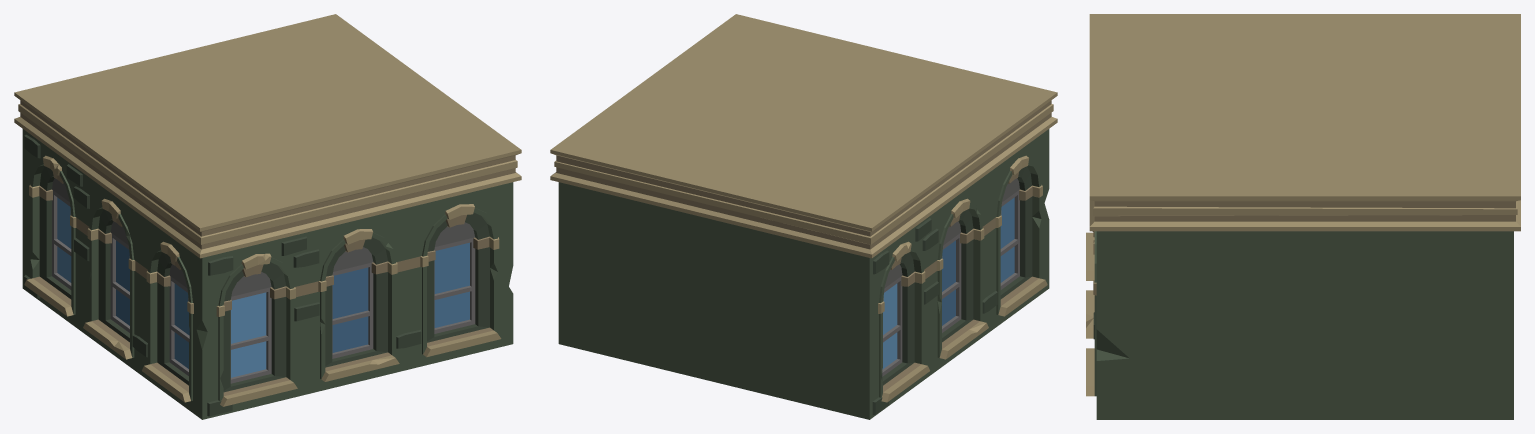
Rendered from SM_Bld_Apartment_Corner_02.fbx.
3 views of the same model, side by side, from view 1: azimuth 30°, elevation 25°; view 2: azimuth 150°, elevation 25°; view 3: azimuth 270°, elevation 25° (orthographic). The views are drawn at different scales.
Parts seen in each view (by area): view 1: Default, window2, window3, window1, window4, window6, window5; view 2: Default, window6, window4, window5; view 3: Default.
Part boxes in pixels (bbox=[...]): Default: bbox=[14, 14, 521, 419]; window2: bbox=[332, 267, 368, 352]; window3: bbox=[231, 292, 266, 377]; window1: bbox=[434, 242, 469, 327]; window4: bbox=[174, 283, 189, 368]; window6: bbox=[57, 197, 71, 282]; window5: bbox=[116, 240, 129, 325]; Default: bbox=[550, 14, 1057, 419]; window6: bbox=[882, 283, 897, 369]; window4: bbox=[1000, 197, 1014, 282]; window5: bbox=[942, 240, 955, 325]; Default: bbox=[1086, 14, 1520, 419].
Size of the model in its own units: 5.21 by 3 by 5.21.
2 materials, 1 textured.
